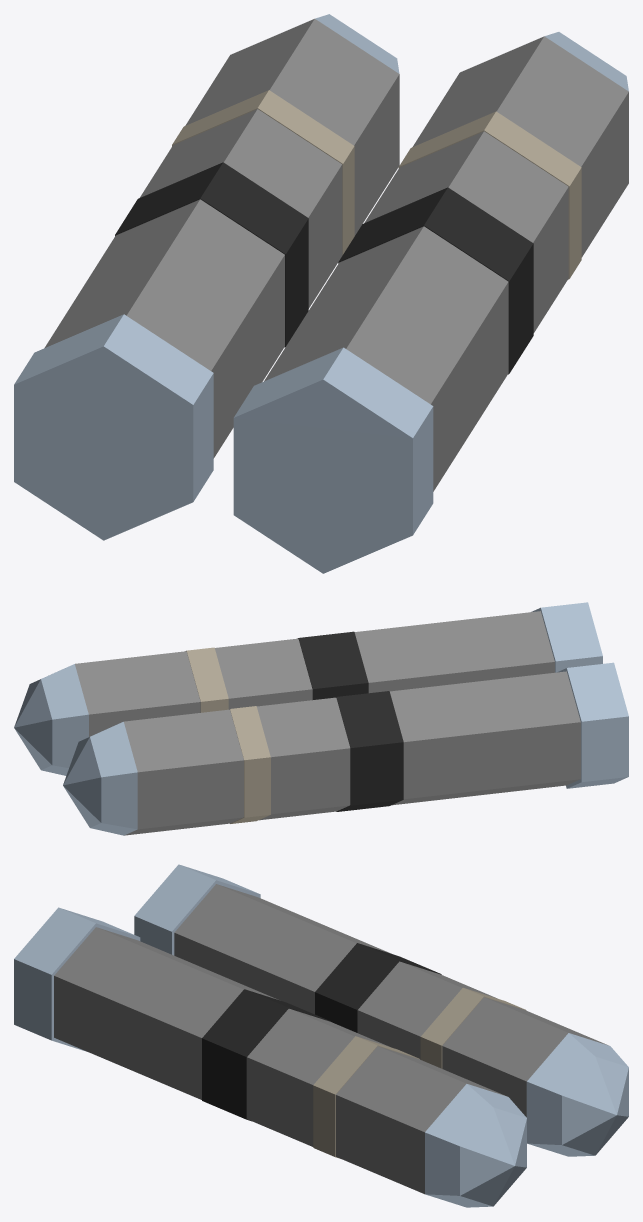
The model's file is ce_ammo2_tow_heat_b.obj.
The picture shows the model from 3 angles, top to bottom: view 1: azimuth 30°, elevation 25°; view 2: azimuth 150°, elevation 25°; view 3: azimuth 270°, elevation 25°; orthographic projection. The views are drawn at different scales.
Parts seen in each view (by area): view 1: ce_ammo2_tow_heat_b_8, ce_ammo2_tow_heat_b_0, ce_ammo2_tow_heat_b_9, ce_ammo2_tow_heat_b_1, ce_ammo2_tow_heat_b_13, ce_ammo2_tow_heat_b_5, ce_ammo2_tow_heat_b_11, ce_ammo2_tow_heat_b_3, ce_ammo2_tow_heat_b_10, ce_ammo2_tow_heat_b_2, ce_ammo2_tow_heat_b_12, ce_ammo2_tow_heat_b_4 (+2 smaller); view 2: ce_ammo2_tow_heat_b_1, ce_ammo2_tow_heat_b_5, ce_ammo2_tow_heat_b_9, ce_ammo2_tow_heat_b_3, ce_ammo2_tow_heat_b_13, ce_ammo2_tow_heat_b_2, ce_ammo2_tow_heat_b_0, ce_ammo2_tow_heat_b_11, ce_ammo2_tow_heat_b_6, ce_ammo2_tow_heat_b_10, ce_ammo2_tow_heat_b_14, ce_ammo2_tow_heat_b_4 (+4 smaller); view 3: ce_ammo2_tow_heat_b_9, ce_ammo2_tow_heat_b_1, ce_ammo2_tow_heat_b_13, ce_ammo2_tow_heat_b_11, ce_ammo2_tow_heat_b_5, ce_ammo2_tow_heat_b_10, ce_ammo2_tow_heat_b_3, ce_ammo2_tow_heat_b_8, ce_ammo2_tow_heat_b_6, ce_ammo2_tow_heat_b_14, ce_ammo2_tow_heat_b_7, ce_ammo2_tow_heat_b_15 (+4 smaller).
Part boxes in pixels (x1=…): ce_ammo2_tow_heat_b_8: x1=233, y1=347, x2=433, y2=573; ce_ammo2_tow_heat_b_0: x1=14, y1=314, x2=213, y2=540; ce_ammo2_tow_heat_b_9: x1=264, y1=226, x2=508, y2=491; ce_ammo2_tow_heat_b_1: x1=44, y1=199, x2=284, y2=458; ce_ammo2_tow_heat_b_13: x1=413, y1=36, x2=628, y2=257; ce_ammo2_tow_heat_b_5: x1=185, y1=18, x2=399, y2=235; ce_ammo2_tow_heat_b_11: x1=364, y1=131, x2=568, y2=332; ce_ammo2_tow_heat_b_3: x1=140, y1=109, x2=342, y2=308; ce_ammo2_tow_heat_b_10: x1=338, y1=187, x2=533, y2=374; ce_ammo2_tow_heat_b_2: x1=115, y1=162, x2=308, y2=347; ce_ammo2_tow_heat_b_12: x1=398, y1=111, x2=581, y2=279; ce_ammo2_tow_heat_b_4: x1=172, y1=90, x2=354, y2=255; ce_ammo2_tow_heat_b_1: x1=389, y1=671, x2=580, y2=805; ce_ammo2_tow_heat_b_5: x1=124, y1=709, x2=243, y2=835; ce_ammo2_tow_heat_b_9: x1=354, y1=611, x2=554, y2=693; ce_ammo2_tow_heat_b_3: x1=257, y1=697, x2=350, y2=820; ce_ammo2_tow_heat_b_13: x1=75, y1=651, x2=200, y2=736; ce_ammo2_tow_heat_b_2: x1=335, y1=691, x2=403, y2=811; ce_ammo2_tow_heat_b_0: x1=557, y1=662, x2=628, y2=788; ce_ammo2_tow_heat_b_11: x1=215, y1=638, x2=312, y2=709; ce_ammo2_tow_heat_b_6: x1=90, y1=722, x2=137, y2=835; ce_ammo2_tow_heat_b_10: x1=297, y1=631, x2=368, y2=699; ce_ammo2_tow_heat_b_14: x1=41, y1=664, x2=88, y2=775; ce_ammo2_tow_heat_b_4: x1=229, y1=706, x2=270, y2=823; ce_ammo2_tow_heat_b_9: x1=54, y1=927, x2=278, y2=1099; ce_ammo2_tow_heat_b_1: x1=174, y1=884, x2=391, y2=1014; ce_ammo2_tow_heat_b_13: x1=336, y1=1046, x2=506, y2=1194; ce_ammo2_tow_heat_b_11: x1=247, y1=1008, x2=389, y2=1146; ce_ammo2_tow_heat_b_5: x1=442, y1=997, x2=608, y2=1116; ce_ammo2_tow_heat_b_10: x1=202, y1=989, x2=330, y2=1121; ce_ammo2_tow_heat_b_3: x1=357, y1=961, x2=496, y2=1059; ce_ammo2_tow_heat_b_8: x1=14, y1=907, x2=140, y2=1051; ce_ammo2_tow_heat_b_6: x1=526, y1=1033, x2=628, y2=1156; ce_ammo2_tow_heat_b_14: x1=425, y1=1084, x2=526, y2=1207; ce_ammo2_tow_heat_b_7: x1=562, y1=1056, x2=628, y2=1155; ce_ammo2_tow_heat_b_15: x1=460, y1=1107, x2=526, y2=1206.
Bounding box in the file's own units: 0.8094 × 0.1908 × 0.8095.
